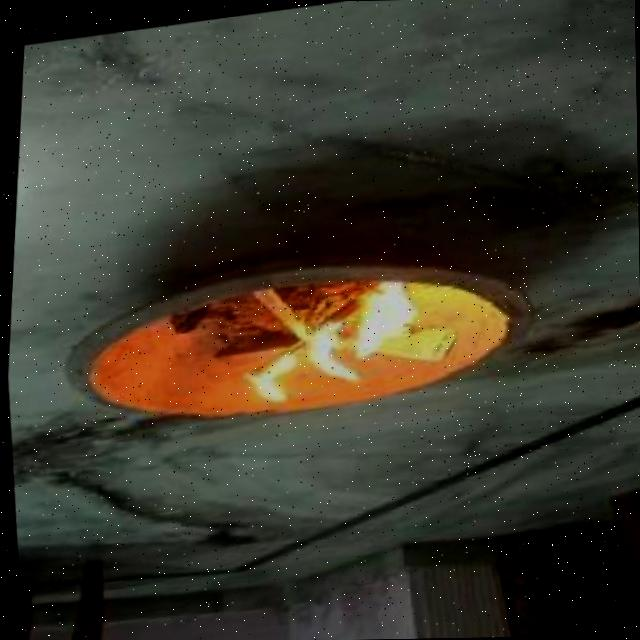fire: (240, 281, 426, 403)
